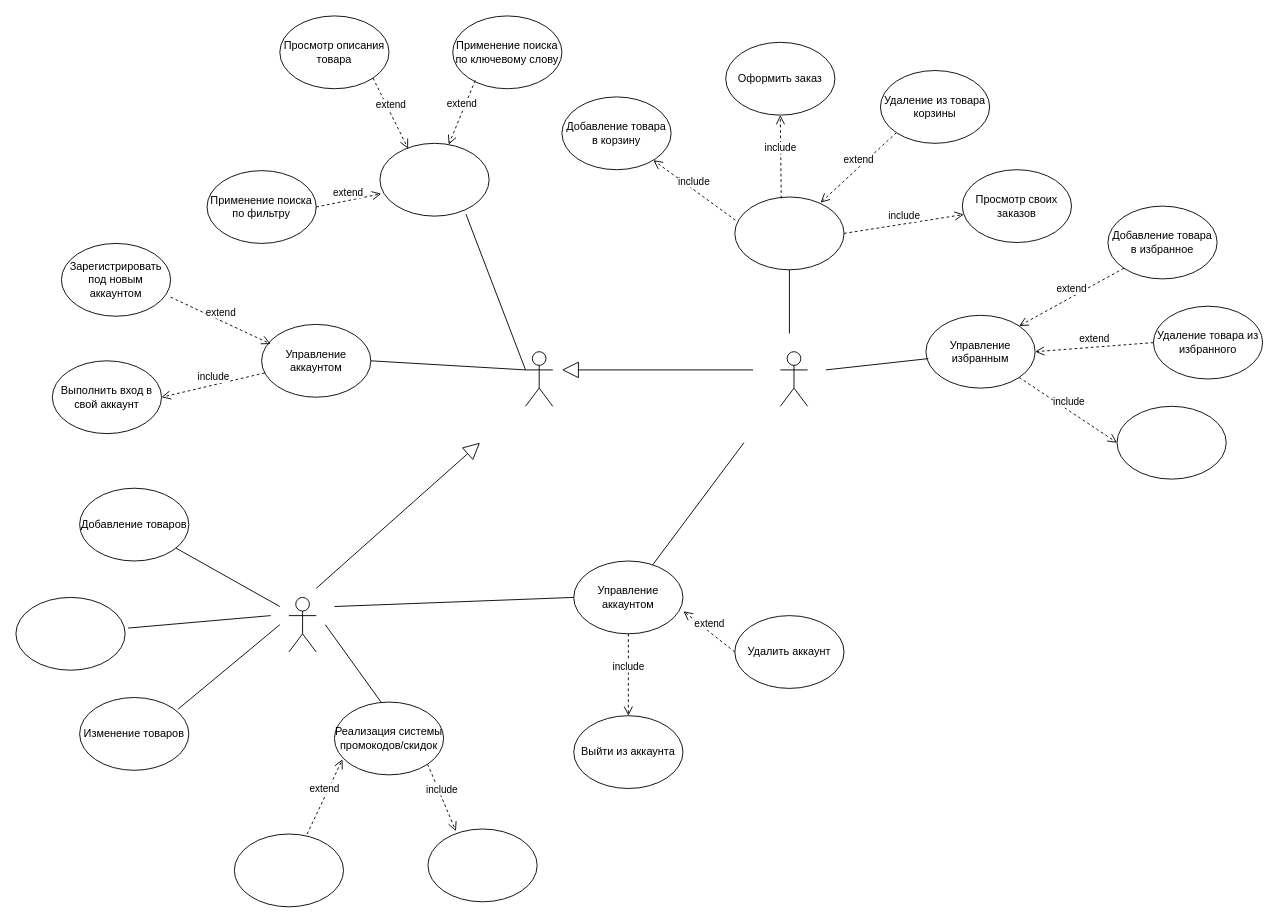
Some shapes in this 1279 by 923 pixel diagram are drawn without their labels. Each missing label, with the centre of its shape:
"Администратор" goes at pixel 302 624.
"Гость(неавторизованный пользователь)" goes at pixel 539 378.
"Клиент(авторизованный пользователь)" goes at pixel 793 378.
"Оформление и управление заказами" goes at pixel 789 233.
"Поиск и просмотр товаров" goes at pixel 434 179.
"Просмотр избранного" goes at pixel 1171 442.
"Создание промокода" goes at pixel 482 865.
"Удаление промокода" goes at pixel 288 870.
"Удаление товаров" goes at pixel 70 633.
